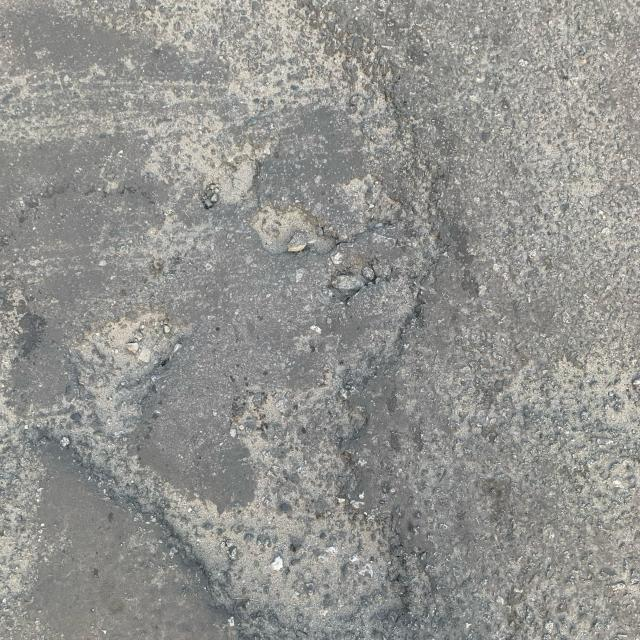unexpected: (2, 5, 640, 640)
